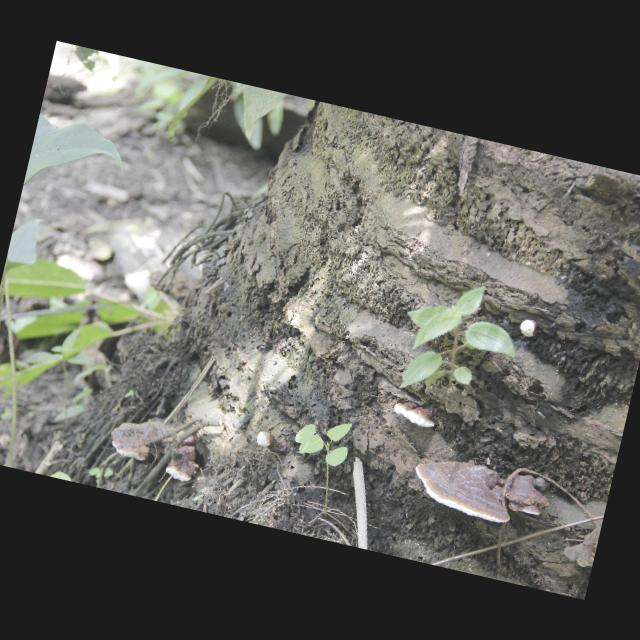ganoderma: (408, 452, 521, 527), (106, 413, 173, 467), (501, 471, 556, 520), (164, 432, 204, 485), (392, 399, 440, 430)
primordium: (519, 318, 541, 340), (255, 430, 276, 451)
